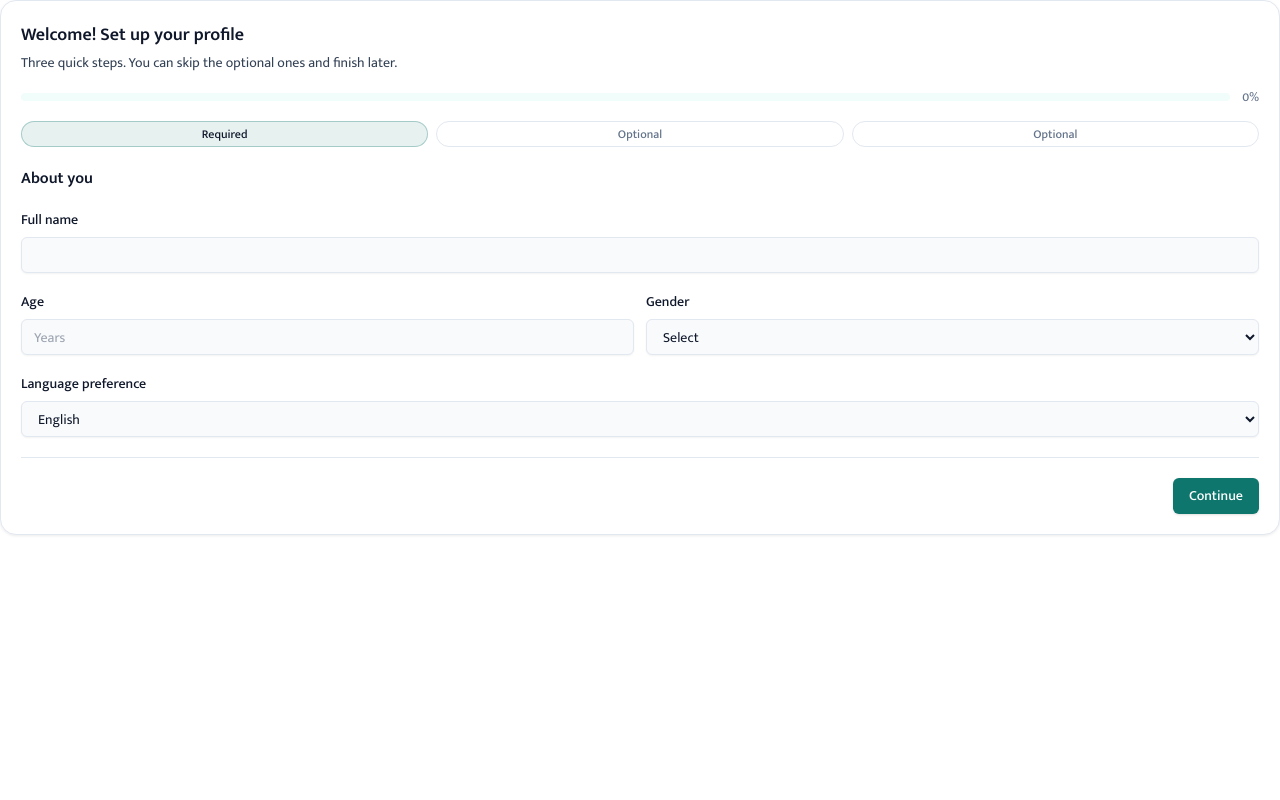
Scenario: ProfileCompletionWizard › rejects an implausible age without advancing
The width and height of the screenshot is (1280, 800).
Type "Asha Devi" into the field with test id "pc-fullname".
click(640, 255); type("Asha Devi")  # box [21,237,1259,273]
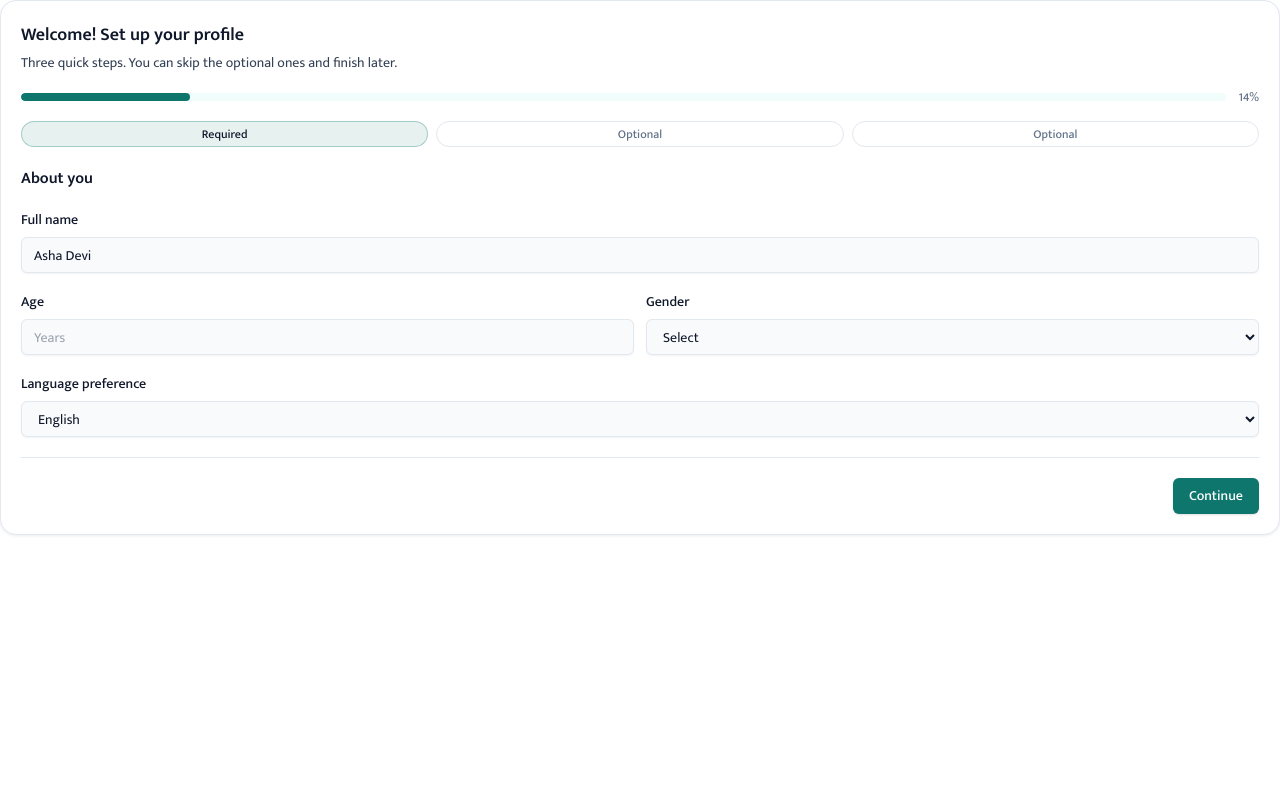
Type "abc" into the field with test id "pc-age".
click(328, 337); type("abc")  # box [21,319,634,355]
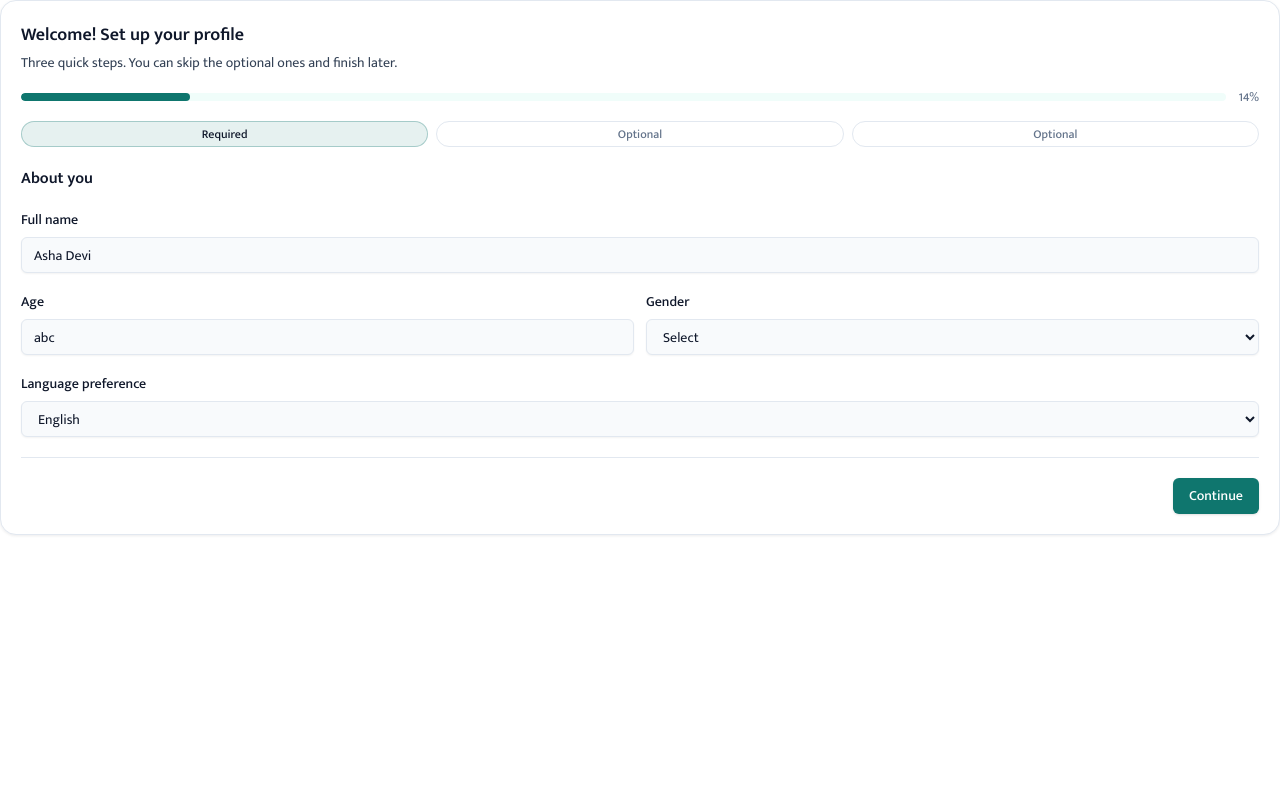
Select "Female" in the dropdown with test id "pc-gender" at (952, 337), box [646,319,1259,355]
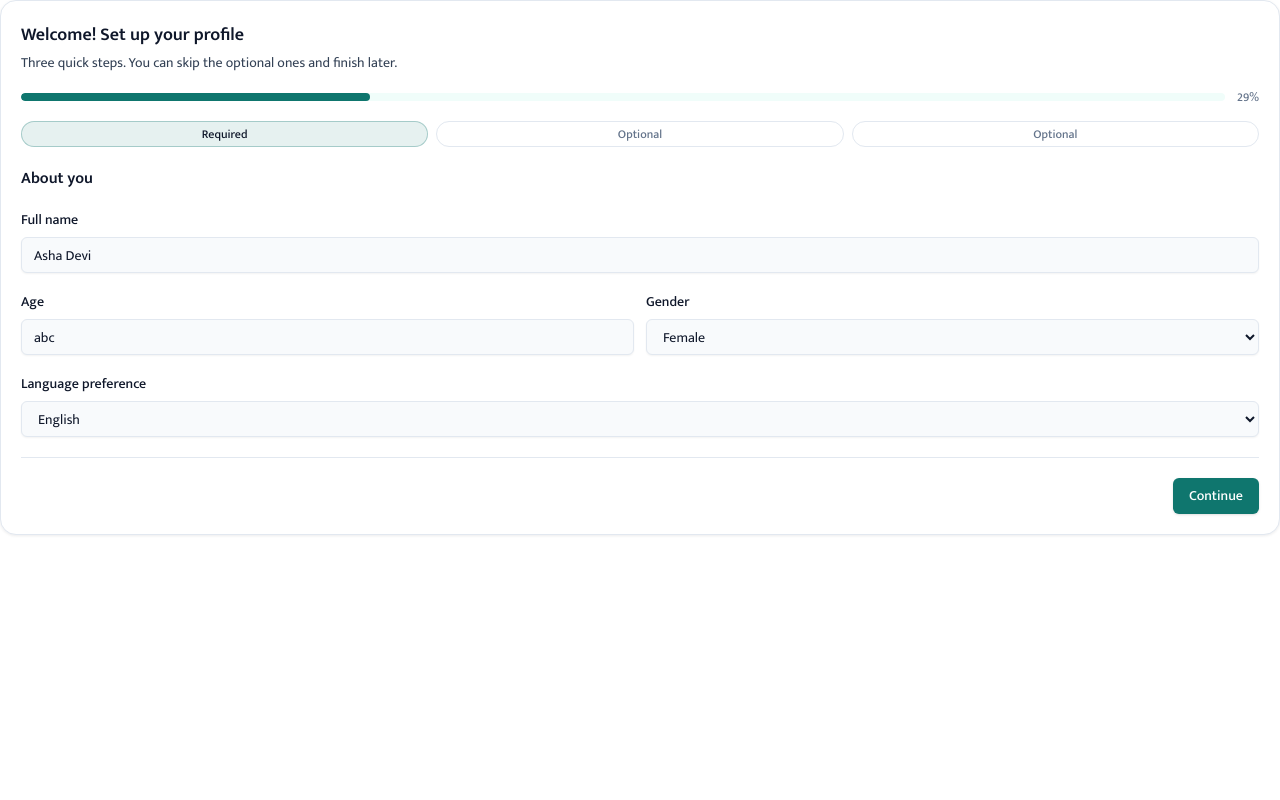
Click the button with test id "pc-next".
click(1216, 496)  # box [1173,478,1259,514]
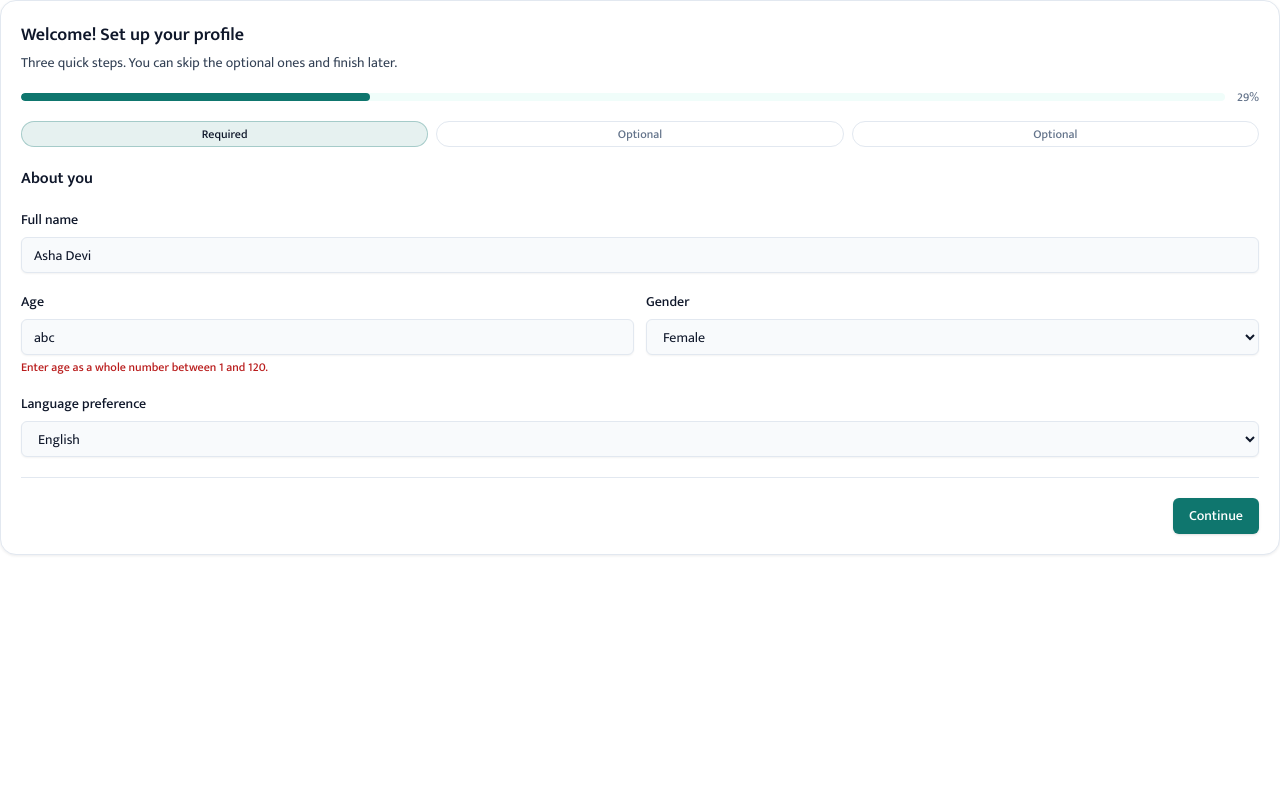
expect the heading "About you" is shown: met, box [21,165,93,192]
expect the text "Enter age as a whole number between 1 and 120." is shown: met, box [21,357,268,377]
